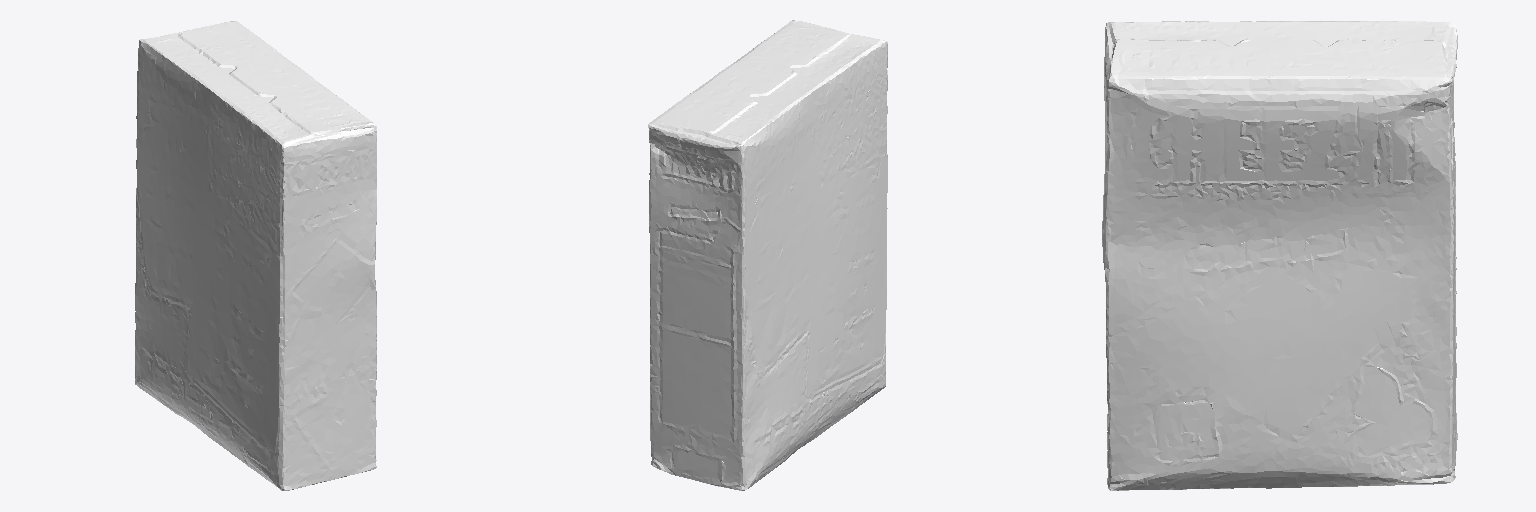
robot.urdf — cracker_box:
<robot name="cracker_box">
    <link name="base_link">
        <visual>
            <origin xyz="-0.0 -0.0 -0.0" rpy="0.0 0.0 0.0" />
            <geometry>
                <mesh filename="cracker_box/textured.obj" scale="1 1 1" />
            </geometry>
            <material name="texture">
                <color rgba="1.0 1.0 1.0 1.0" />
            </material>
        </visual>
        <collision>
            <origin xyz="-0.0 -0.0 -0.0" rpy="0.0 0.0 0.0" />
            <geometry>
                <mesh filename="cracker_box/textured_coacd_0.stl" scale="1 1 1" />
            </geometry>
        </collision>
        <collision>
            <origin xyz="-0.0 -0.0 -0.0" rpy="0.0 0.0 0.0" />
            <geometry>
                <mesh filename="cracker_box/textured_coacd_1.stl" scale="1 1 1" />
            </geometry>
        </collision>
        <inertial>
            <mass value="0.411" />
            <inertia ixx="1e-3" ixy="0.0" ixz="0.0" iyy="1e-3" iyz="0.0" izz="1e-3" />
        </inertial>
    </link>
</robot>

--- What the picture shows (computed from the rendered views, not written in the file) ---
The picture shows the robot from 3 angles, left to right: view 1: azimuth 30°, elevation 25°; view 2: azimuth 150°, elevation 25°; view 3: azimuth 270°, elevation 25°; orthographic projection.
Model cracker_box with 1 links and 0 joints (none), rooted at base_link, posed every joint at zero.
Visible links, largest first — view 1: base_link; view 2: base_link; view 3: base_link.
Link boxes in pixels (x1,y1,x2,y2): base_link: (135,21,376,490); base_link: (648,20,887,490); base_link: (1102,20,1457,490).
Size in the robot's own frame: 0.0717 by 0.1636 by 0.2138 metres.
1 mesh visuals loaded from 1 distinct referenced files (1 OBJ).